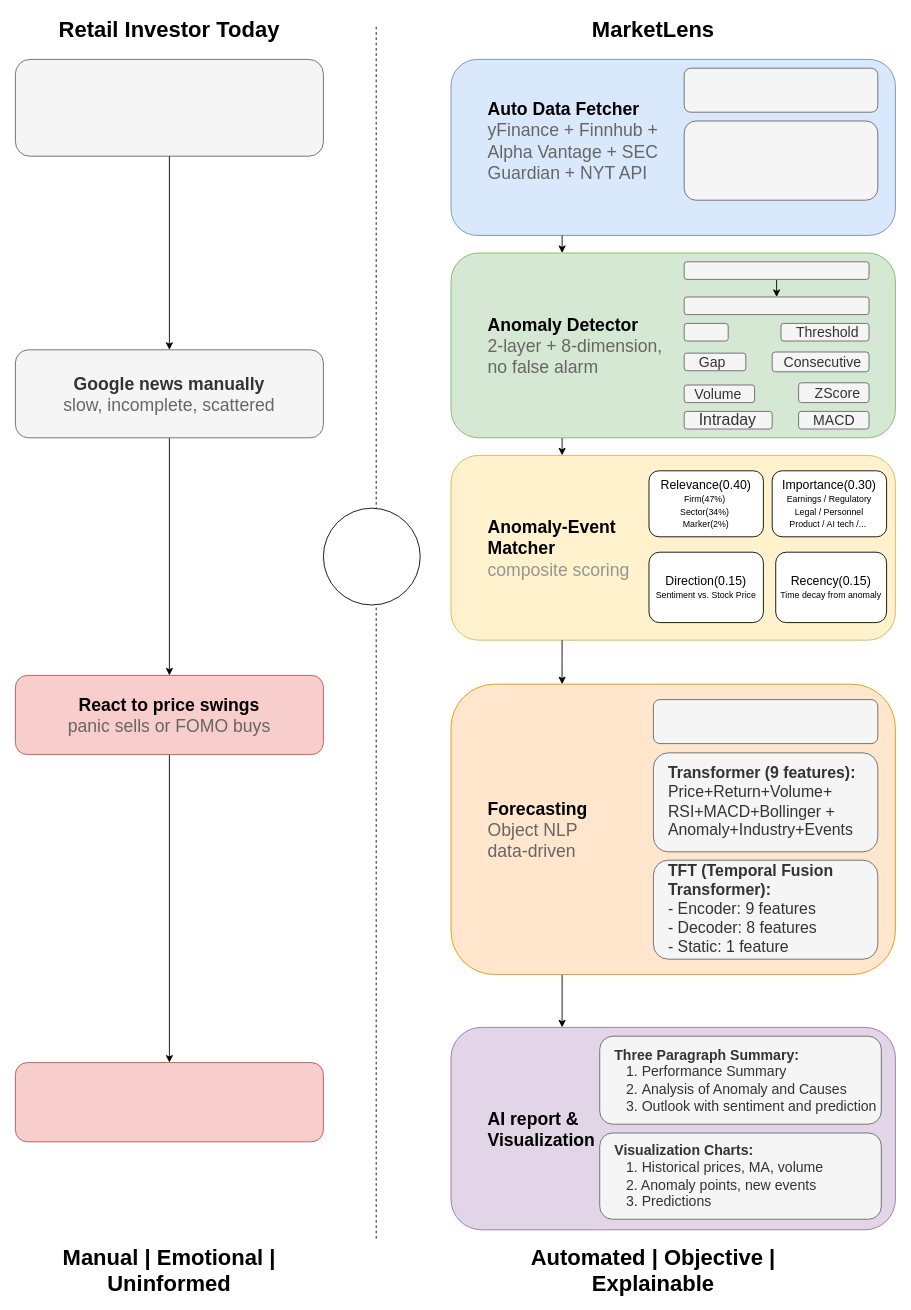
Image size: 911x1310. Some labels were removed from this diagram. Each missing label, with the centre of its shape:
"Check stock app daily price only, no context" goes at point 169,107.
"FinBERT: market sentiment" goes at point 765,721.
"Guess future prices no model, pure intuition" goes at point 169,1102.
"Layer1: Price Layer" goes at point 776,270.
"Layer2: Funnel Layer" goes at point 776,305.
"News/Events: Finnhub, Alpha Vantage, SEC, Guardian, New York Times" goes at point 780,160.
"RSI" goes at point 705,332.
"Stock Data: Yahoo Finance" goes at point 780,89.
"VS" goes at point 371,556.
